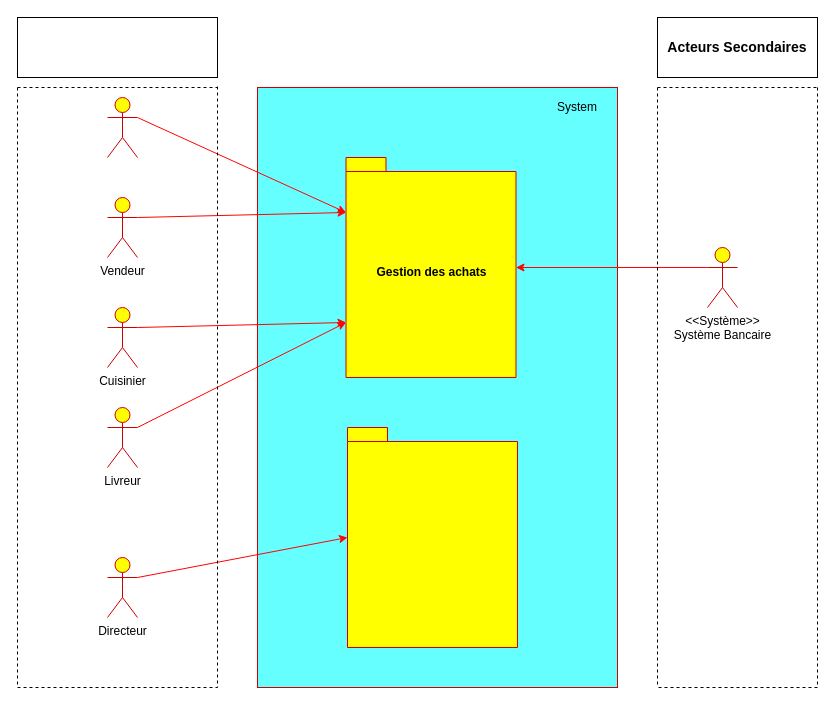
This 836x706 diagram has some shape labels left out. The centre of each missing label's shape, as x and y in pixels:
"Acteur Principaux" belongs at [117,47].
"Client" belongs at [122,127].
"Gestion Administrative" belongs at [432,537].
